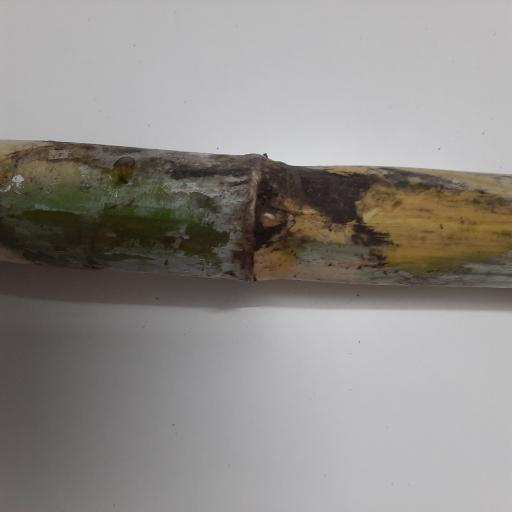Bud: (255, 204, 292, 232)
